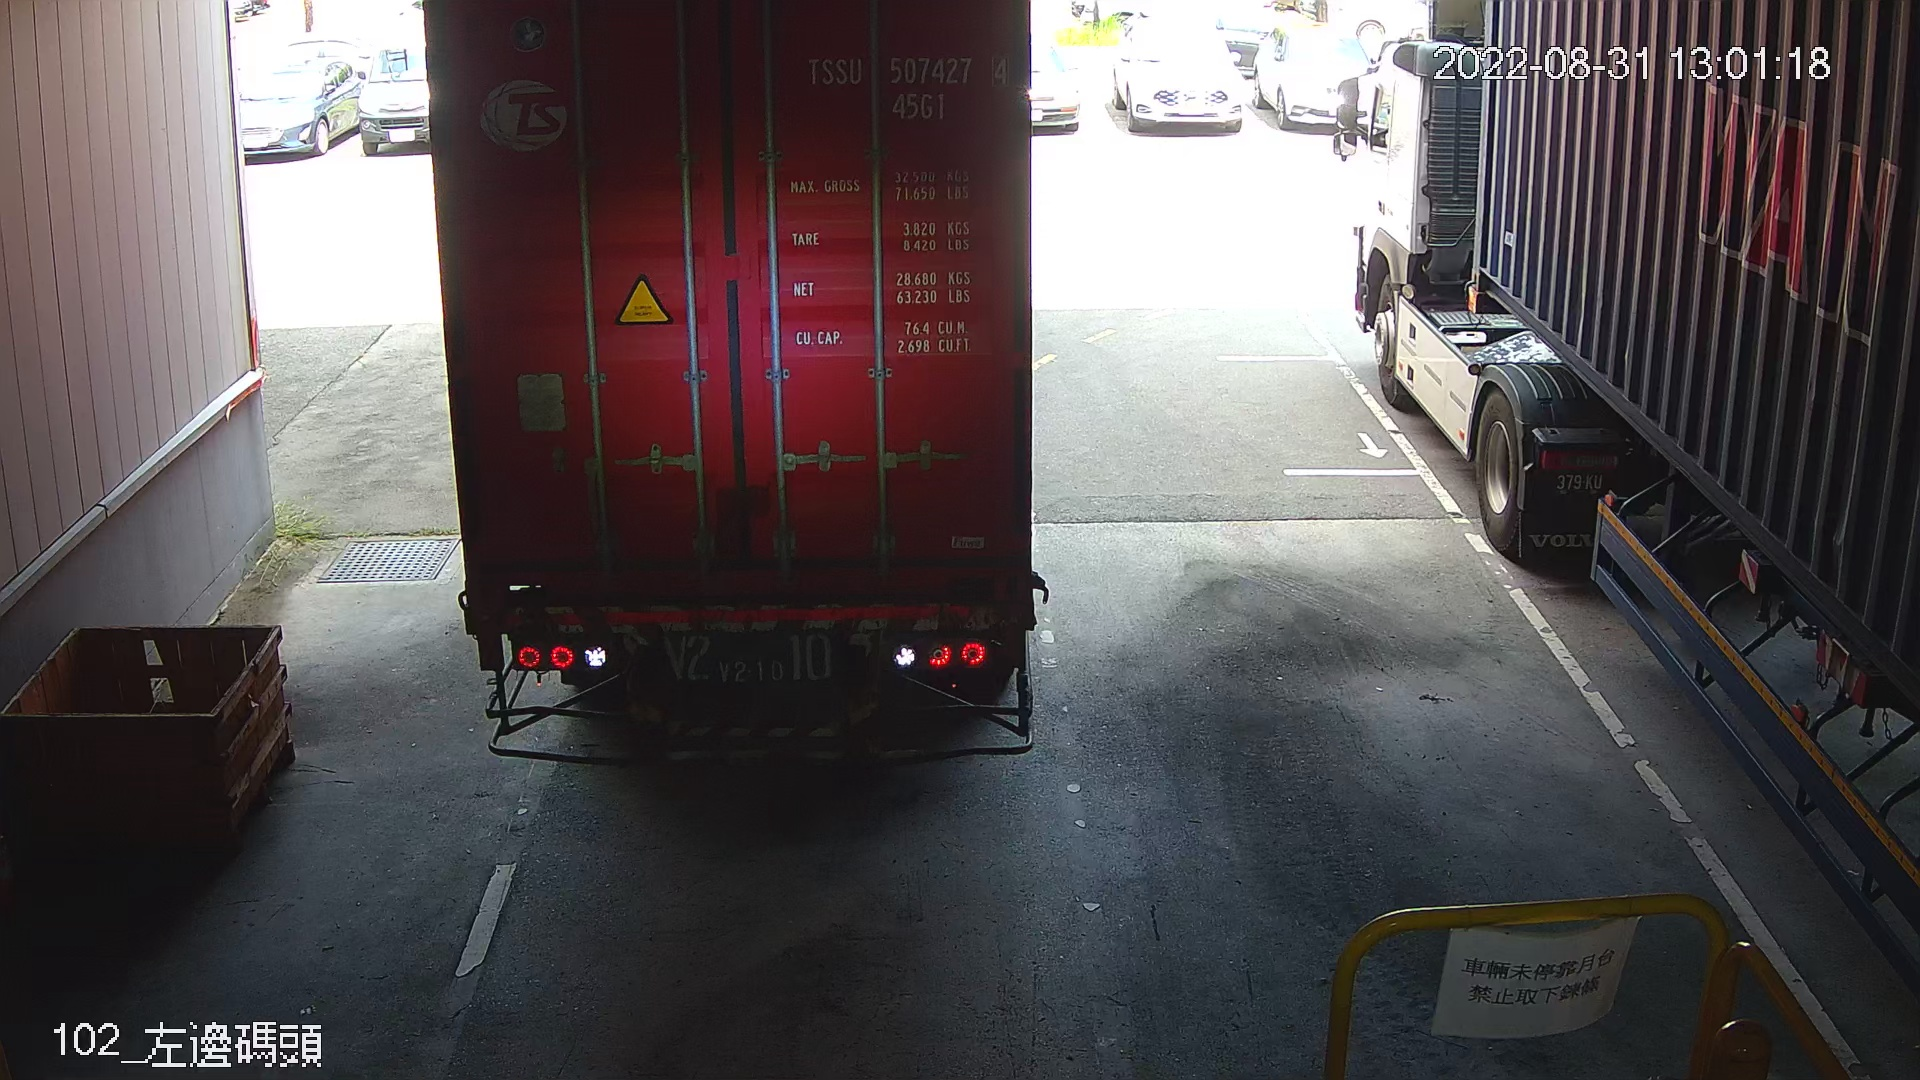container: (796, 40, 1017, 129)
